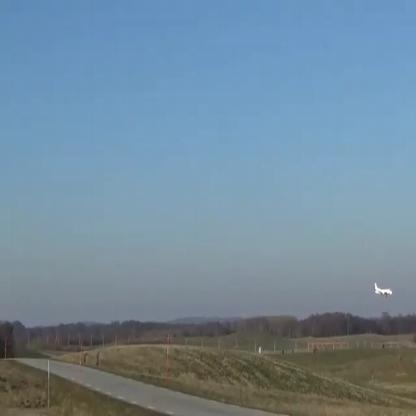CIV_Plane: (372, 277, 394, 303)
